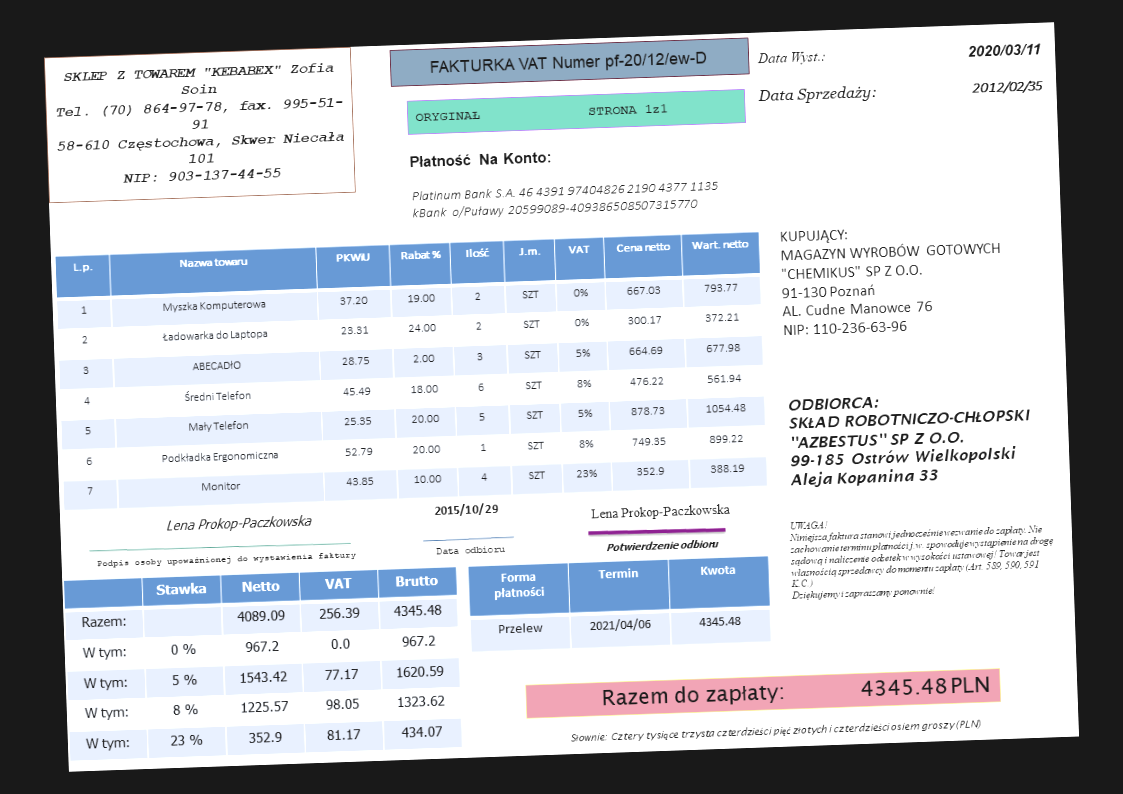Table: (53, 231, 770, 513), (63, 565, 464, 764), (467, 555, 773, 653)
TextBox: (50, 60, 349, 187), (777, 219, 1006, 339), (787, 509, 1059, 603), (786, 388, 1034, 490), (601, 673, 991, 711), (408, 177, 721, 221), (569, 716, 984, 745), (427, 46, 711, 78), (414, 101, 671, 125), (94, 549, 358, 570), (164, 512, 314, 535), (408, 148, 554, 171), (587, 500, 730, 522), (756, 83, 879, 106), (604, 536, 719, 554), (967, 41, 1043, 60), (756, 47, 827, 67), (970, 78, 1044, 96), (432, 500, 500, 519), (434, 542, 506, 558)
